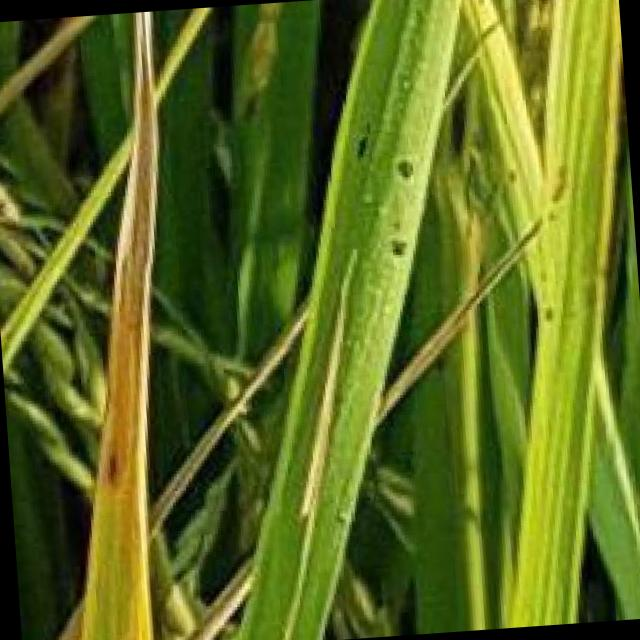Rice_Bacterial_Blight: (62, 18, 196, 519)
